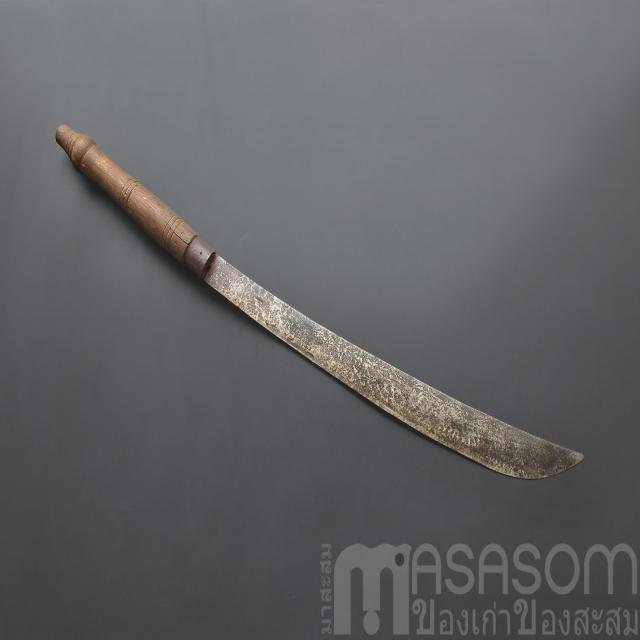long sword: (51, 116, 587, 486)
